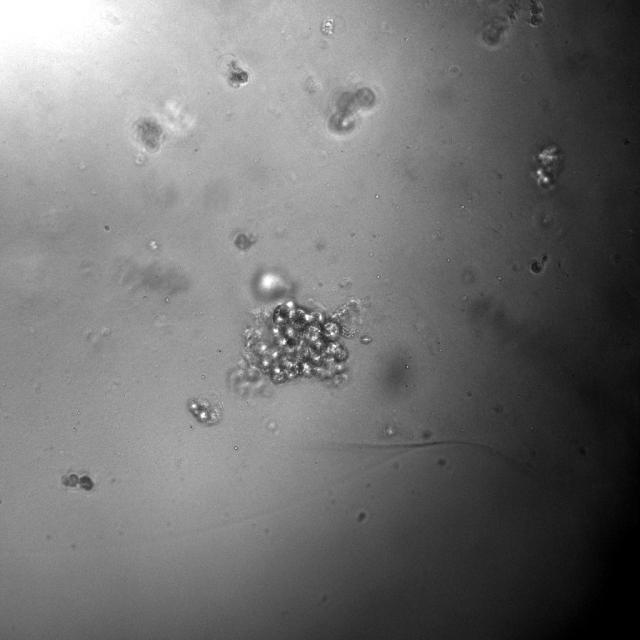organoid: (229, 299, 361, 395), (328, 87, 376, 134), (478, 0, 523, 49), (533, 145, 564, 189), (134, 117, 164, 152), (218, 54, 248, 88), (188, 398, 222, 425), (61, 472, 94, 490), (234, 231, 256, 251), (527, 0, 543, 27), (530, 261, 542, 274)
